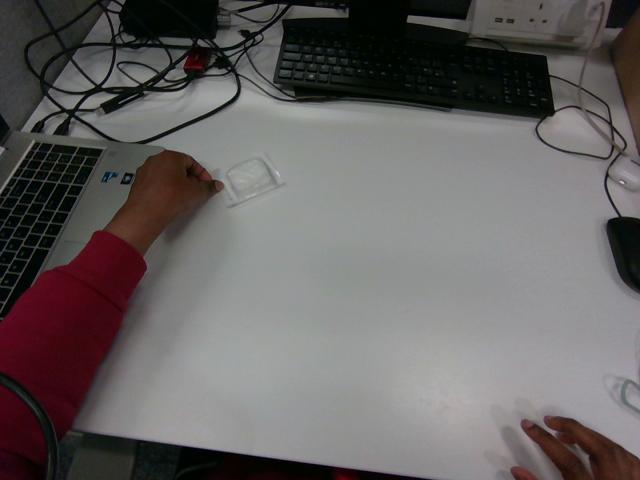gauze: (219, 154, 283, 206)
